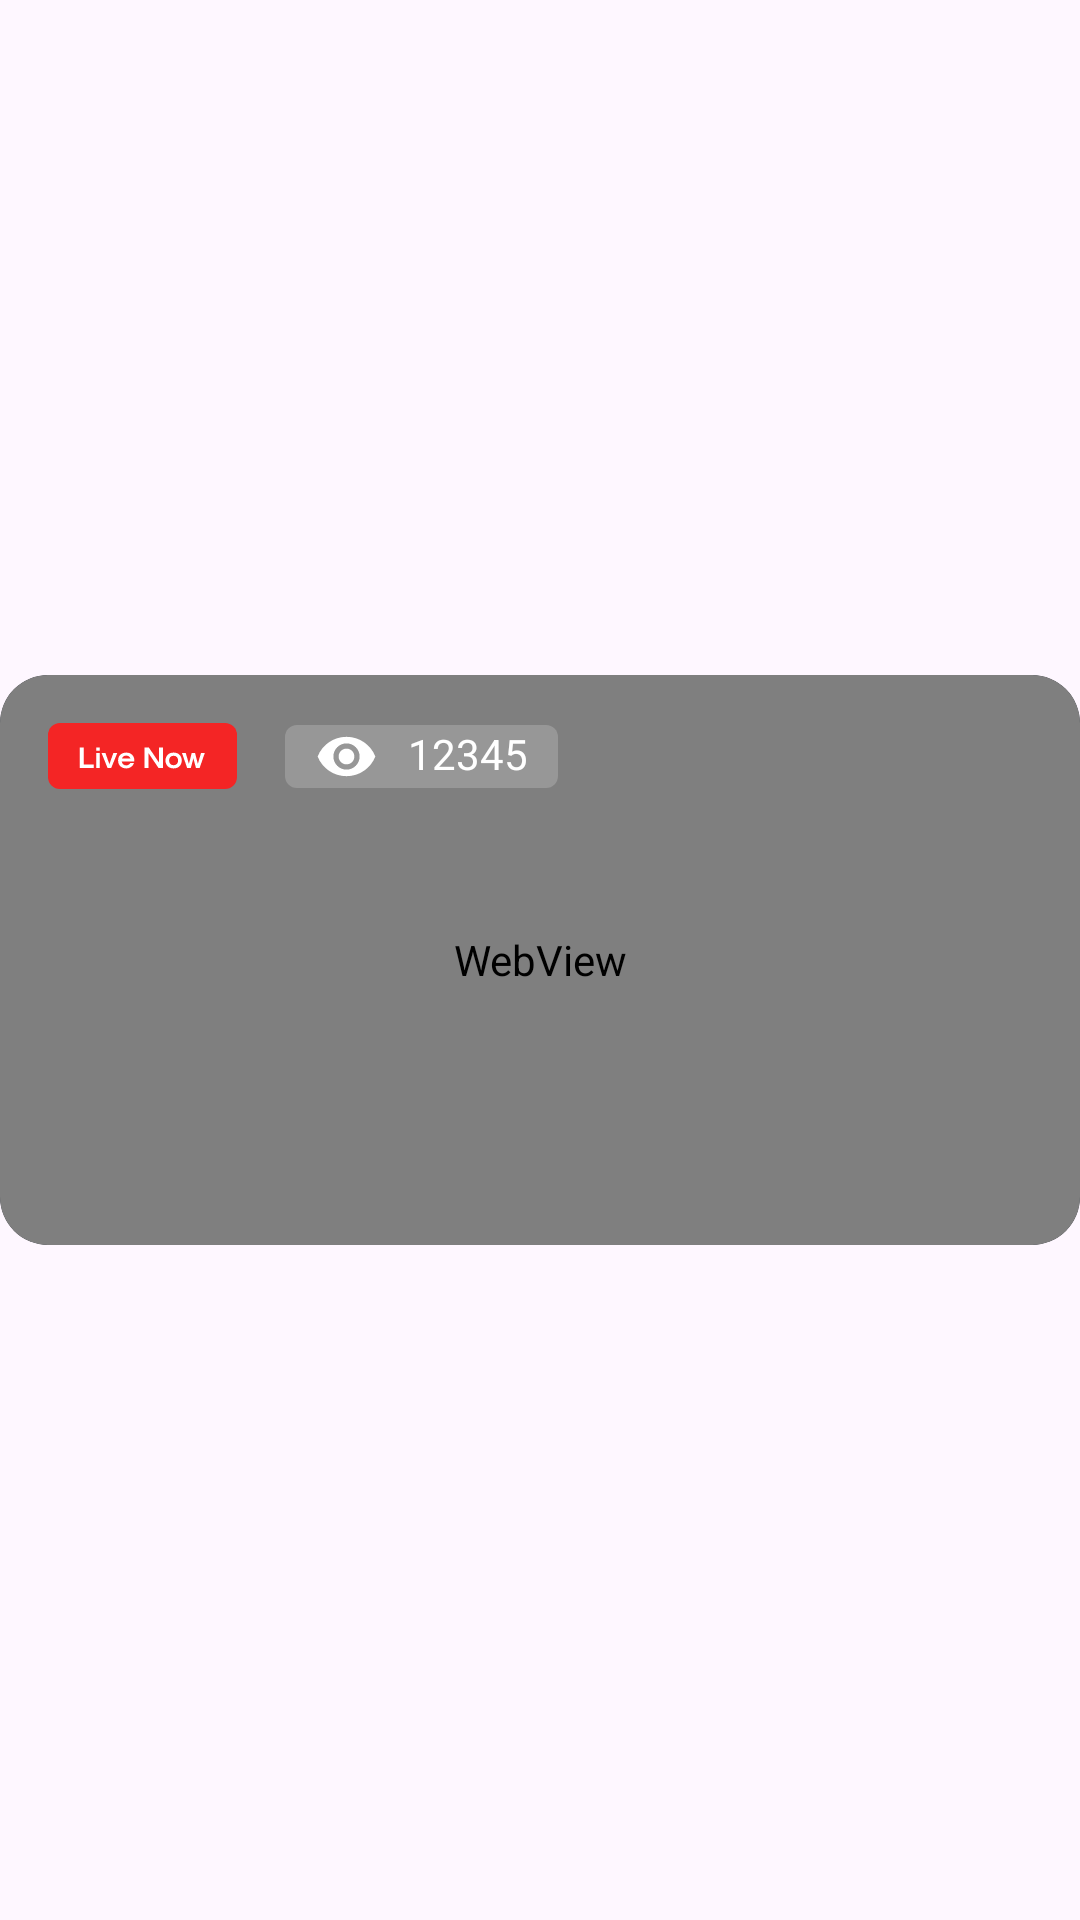

Icon bounding boxes for this 1080px x 1920px phone screenshot, format (x1, y1, x2, y2):
eye: (317, 736, 376, 777)
